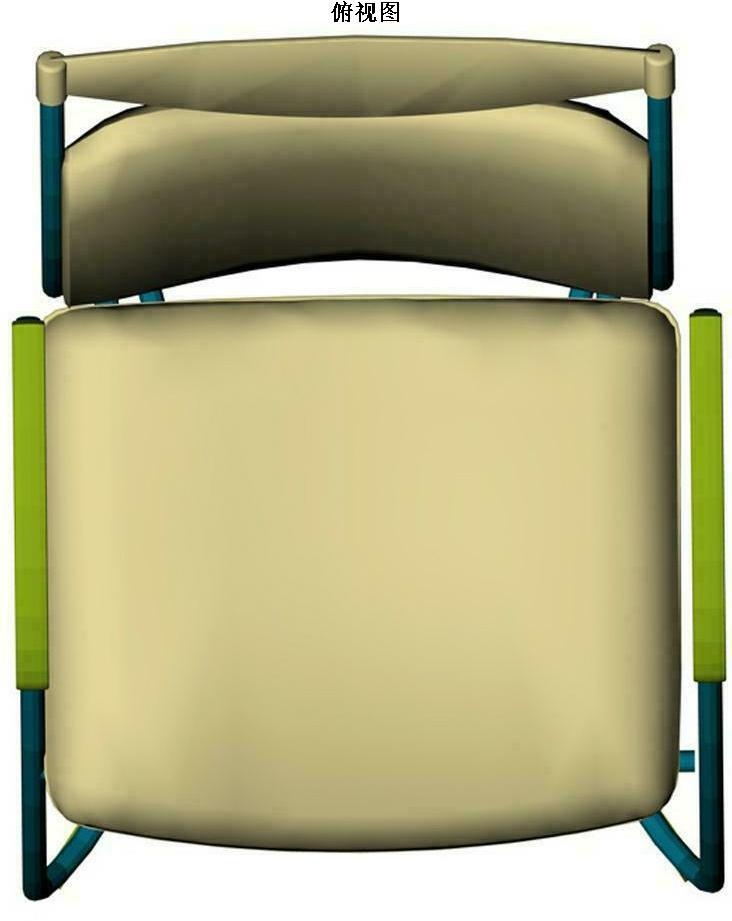obstacle: (14, 36, 723, 898)
